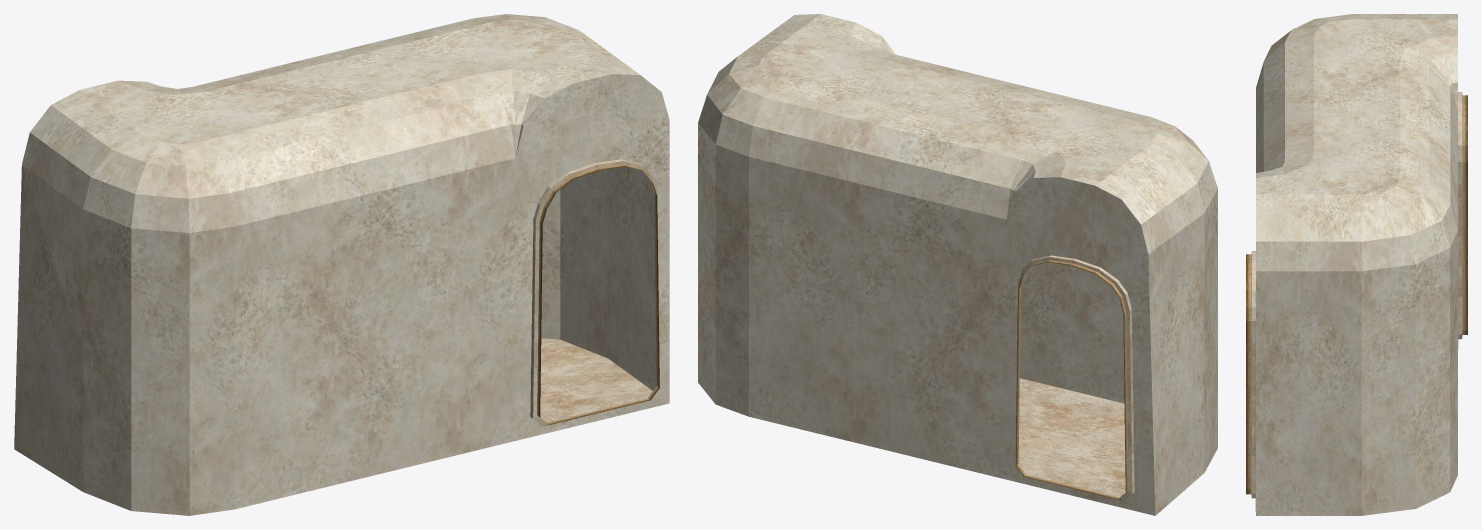
File: ply_tato_house_m_s01_fp1_r8_hall2_mesh_r8.fbx
3 views of the same model, side by side, from view 1: azimuth 30°, elevation 25°; view 2: azimuth 150°, elevation 25°; view 3: azimuth 270°, elevation 25° (orthographic). The views are drawn at different scales.
Parts seen in each view (by area): view 1: mesh_node; view 2: mesh_node; view 3: mesh_node.
Part boxes in pixels (<box>): mesh_node: <box>14,14,669,515</box>; mesh_node: <box>698,14,1217,515</box>; mesh_node: <box>1246,14,1467,515</box>.
Size of the model in its own units: 6.98 by 4.25 by 2.88.
